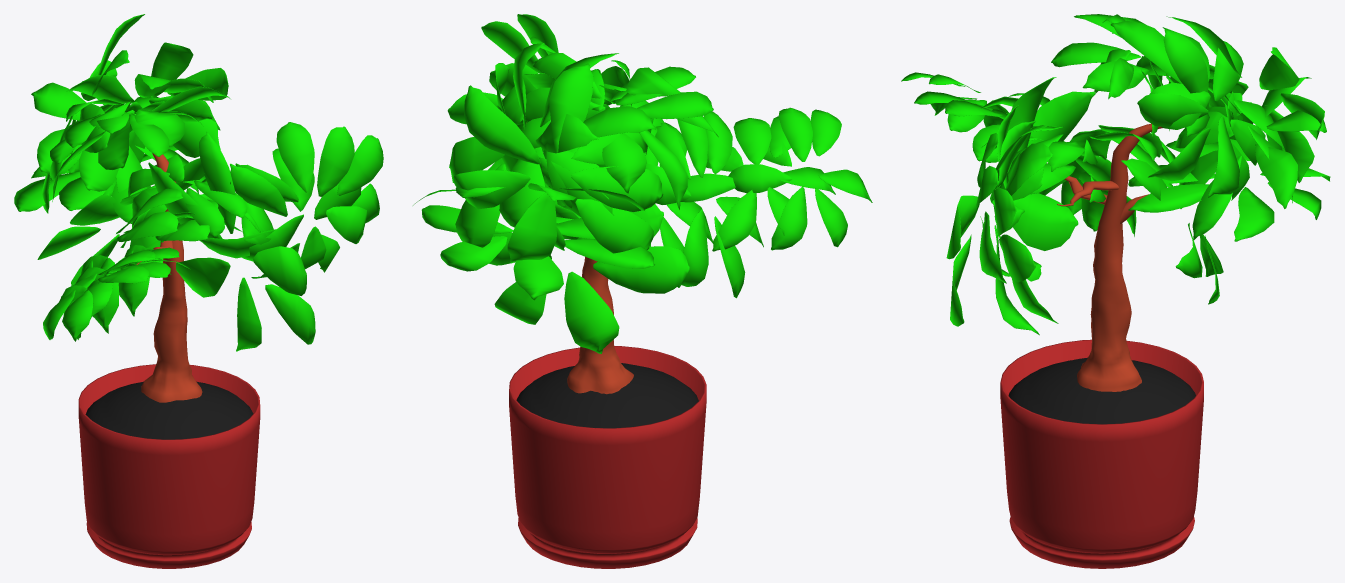
The model's file is Plant.fbx.
3 views of the same model, side by side, from view 1: azimuth 30°, elevation 25°; view 2: azimuth 150°, elevation 25°; view 3: azimuth 270°, elevation 25° (orthographic). The views are drawn at different scales.
Parts seen in each view (by area): view 1: Cylinder, Plane.005, Plane.003, Circle, Plane.004, Circle.001, Plane.008, Plane.010, Plane, Plane.012, Plane.002, Plane.011 (+7 smaller); view 2: Cylinder, Plane.006, Plane.007, Plane.002, Circle, Plane.011, Plane.014, Plane.001, Plane.013, Plane.009, Plane.010, Plane.008 (+5 smaller); view 3: Cylinder, Circle.001, Plane.005, Circle, Plane.008, Plane, Plane.007, Plane.006, Plane.004, Plane.001, Plane.003, Plane.009 (+7 smaller).
Part boxes in pixels (x1,y1,x2,y2): Cylinder: [78, 364, 260, 568]; Plane.005: [148, 132, 315, 351]; Plane.003: [235, 122, 383, 269]; Circle: [85, 381, 253, 439]; Plane.004: [200, 148, 379, 278]; Circle.001: [136, 153, 202, 402]; Plane.008: [67, 42, 228, 195]; Plane.010: [50, 86, 230, 201]; Plane: [31, 75, 198, 193]; Plane.012: [128, 154, 260, 236]; Plane.002: [37, 158, 213, 285]; Plane.011: [43, 250, 171, 341]; Cylinder: [509, 346, 706, 568]; Plane.006: [453, 63, 663, 263]; Plane.007: [449, 53, 656, 247]; Plane.002: [489, 147, 690, 353]; Circle: [516, 363, 698, 428]; Plane.011: [728, 107, 872, 250]; Plane.014: [645, 111, 763, 298]; Plane.001: [421, 205, 654, 300]; Plane.013: [680, 116, 835, 251]; Plane.009: [520, 66, 713, 193]; Plane.010: [522, 53, 718, 209]; Plane.008: [495, 42, 613, 259]; Cylinder: [1000, 339, 1203, 568]; Circle.001: [1057, 123, 1162, 391]; Plane.005: [946, 77, 1095, 335]; Circle: [1008, 357, 1195, 424]; Plane.008: [1137, 29, 1265, 200]; Plane: [1175, 77, 1326, 239]; Plane.007: [1110, 20, 1292, 203]; Plane.006: [1136, 16, 1324, 182]; Plane.004: [994, 105, 1058, 323]; Plane.001: [1128, 139, 1330, 241]; Plane.003: [975, 121, 1046, 283]; Plane.009: [1051, 14, 1233, 136].
Bounding box in the file's own units: 88.65 × 113 × 84.62.
